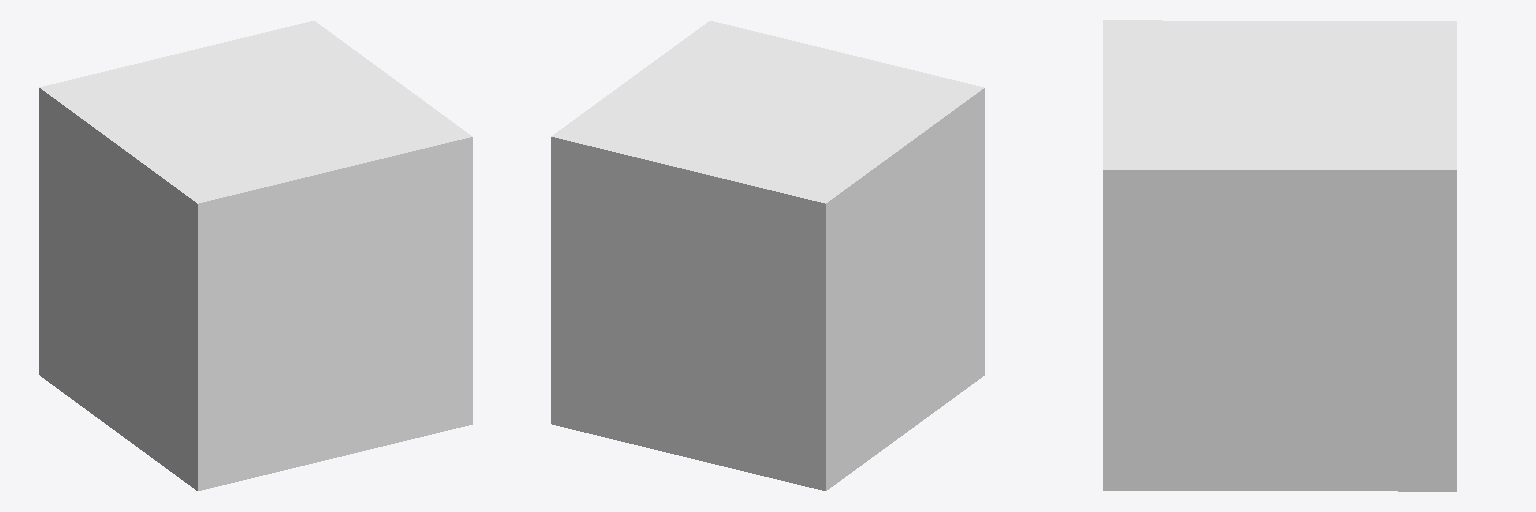
URDF robot description (ar_marker_box):
<?xml version="1.0"?>
<robot name="ar_marker_box">
  <link name="box">
    <inertial>
        <origin xyz="0 0 0" rpy="0 0 0"/>
        <mass value="1.0"/>
        <inertia ixx="0.1" ixy="0.0" ixz="0.0" iyy="0.1" iyz="0.0" izz="0.1"/>
    </inertial>
    <visual>
      <origin xyz="0 0 0" rpy="0 0 1.57"/>
      <geometry>
        <!--pybullet上で表示されるobjファイルは2倍の大きさになるので、0.5倍にスケール-->
        <!-- ※ 筆者の環境で、blenderからexportしたときに発生。全ての環境で起こる事象であるかは不明 -->
        <mesh filename="../obj/ar_marker_box.obj" scale="0.5 0.5 0.5"/>
      </geometry>
      <material name="Material">
        <color rgba="1 1 1 1"/>
        <texture filename="../texture/ar_marker_box.png"/>
      </material>
    </visual>
    <collision>
      <origin xyz="0 0 0" rpy="0 0 0"/>
      <geometry>
        <box size="0.14 0.14 0.14"/> <!--マーカの一辺は10cm, 周りの余白が2cm*2-->
      </geometry>
    </collision>
  </link>
</robot>

--- Facts derived from the render (not from the file) ---
Views: 3 orthographic renders of the robot side by side, from view 1: azimuth 30°, elevation 25°; view 2: azimuth 150°, elevation 25°; view 3: azimuth 270°, elevation 25°.
Robot: ar_marker_box — 1 links, 0 joints (none); root link box; default pose: every joint at zero.
Visible links, largest first — view 1: box; view 2: box; view 3: box.
Link boxes in pixels (<box>): box: <box>39,21,472,490</box>; box: <box>551,21,984,490</box>; box: <box>1103,20,1456,491</box>.
Size in the robot's own frame: 0.1401 by 0.1401 by 0.14 metres.
1 mesh visuals loaded from 1 distinct referenced files (1 OBJ).
